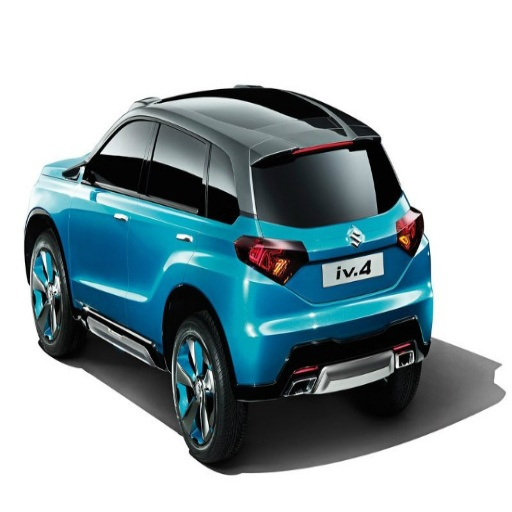back_bumper: (226, 257, 432, 401)
back_glass: (274, 162, 399, 226), (226, 103, 281, 133)
back_left_door: (122, 117, 202, 327)
tailgate: (268, 212, 394, 300)
